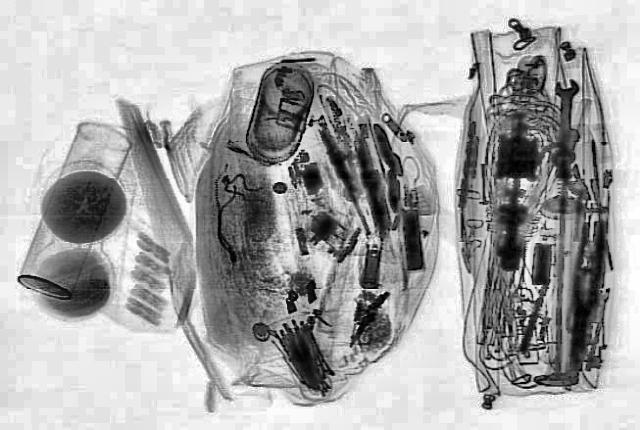Pliers: (557, 220, 609, 372)
Wrench: (552, 78, 578, 166)
